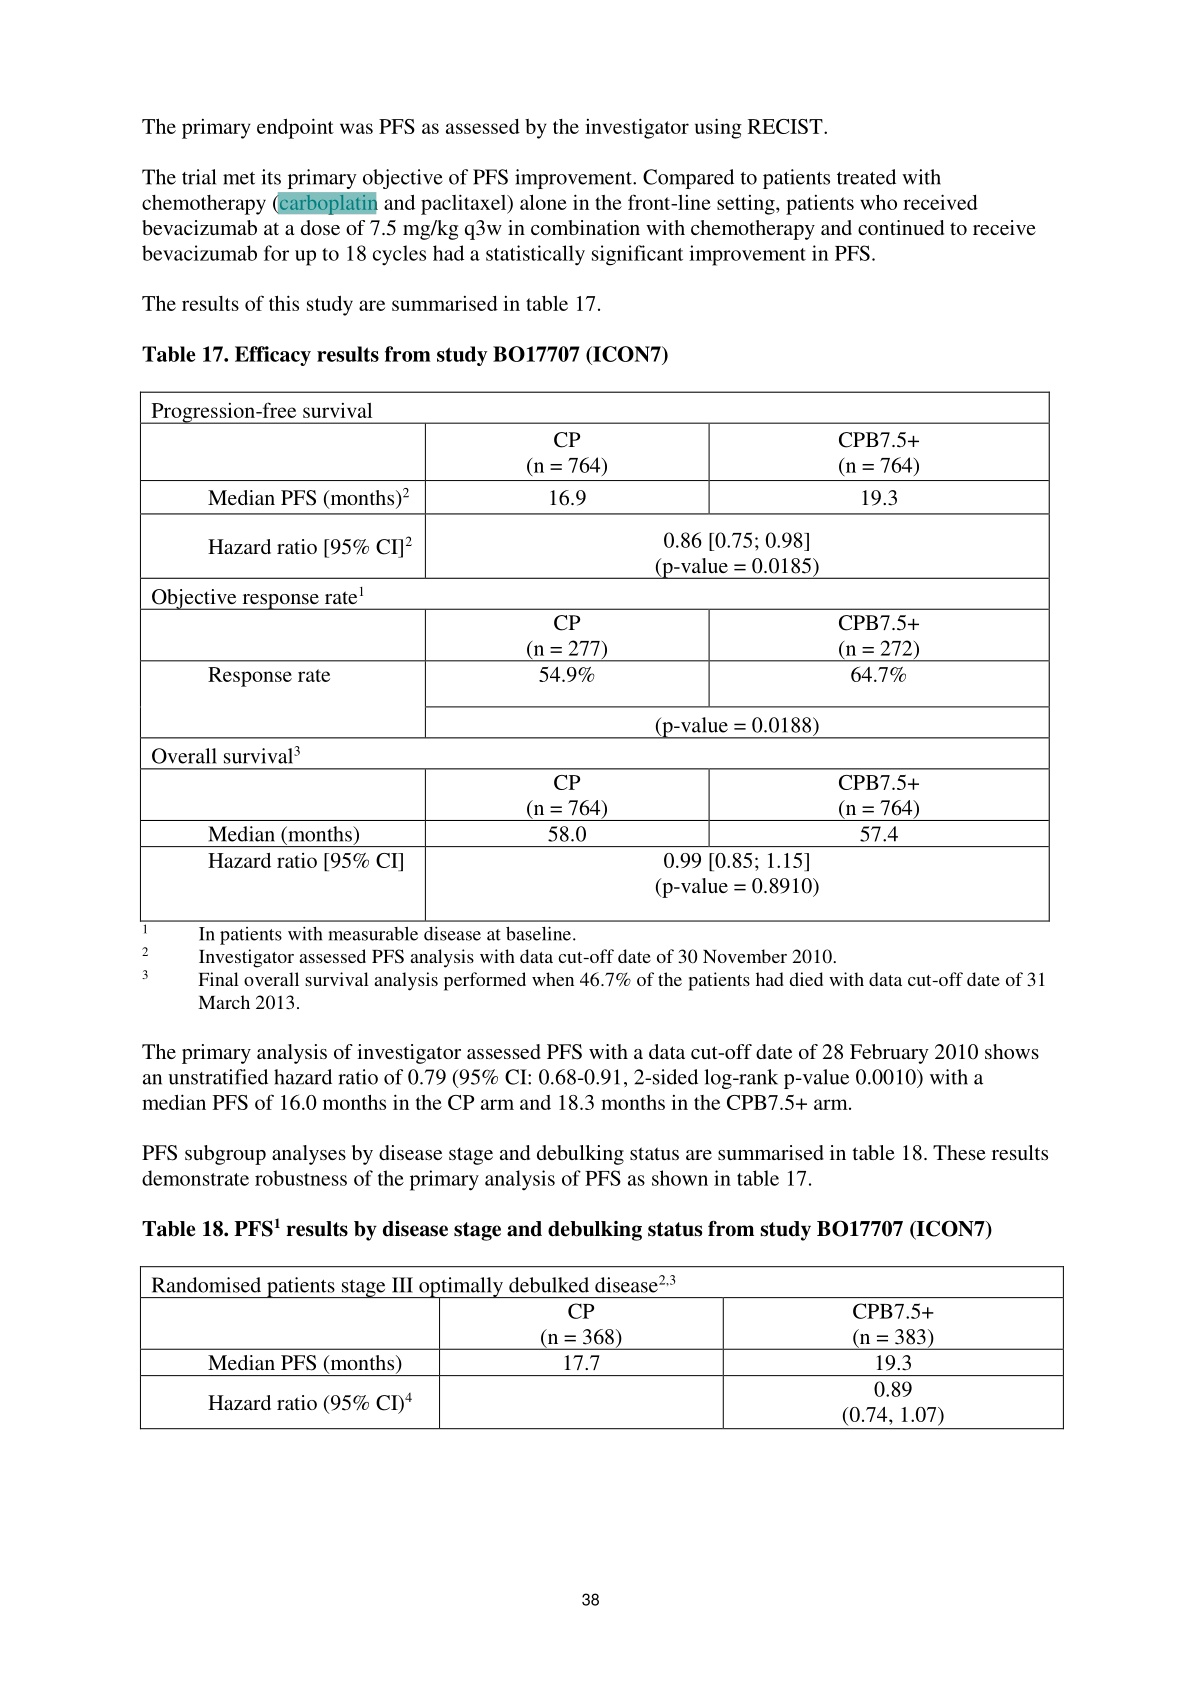merged_cells: (138, 391, 1051, 922), (139, 1263, 1063, 1430)
